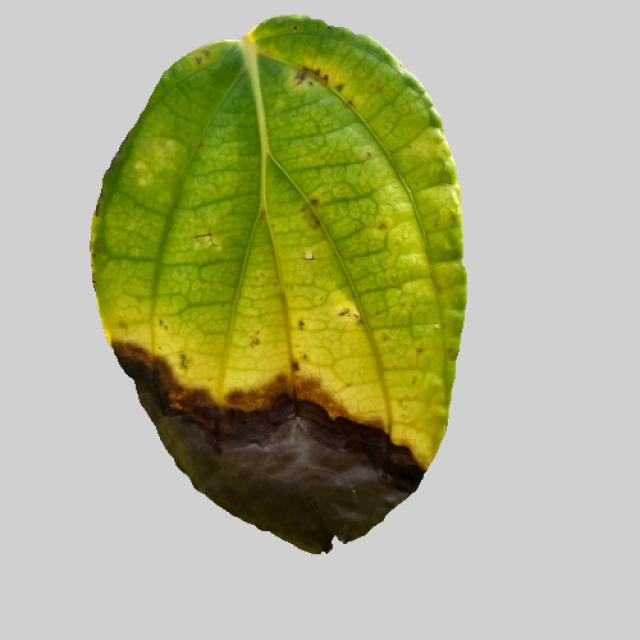leaf-blight: (60, 25, 501, 571)
